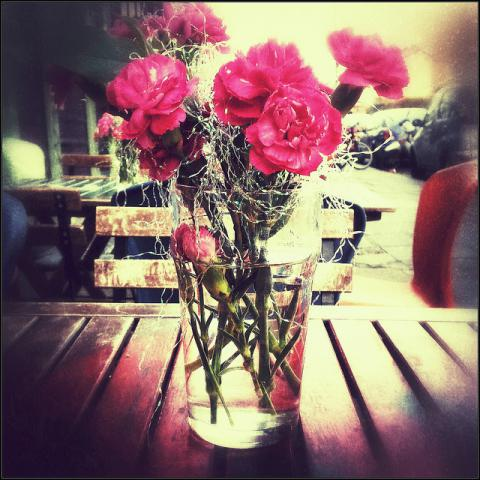car: (410, 85, 478, 179)
